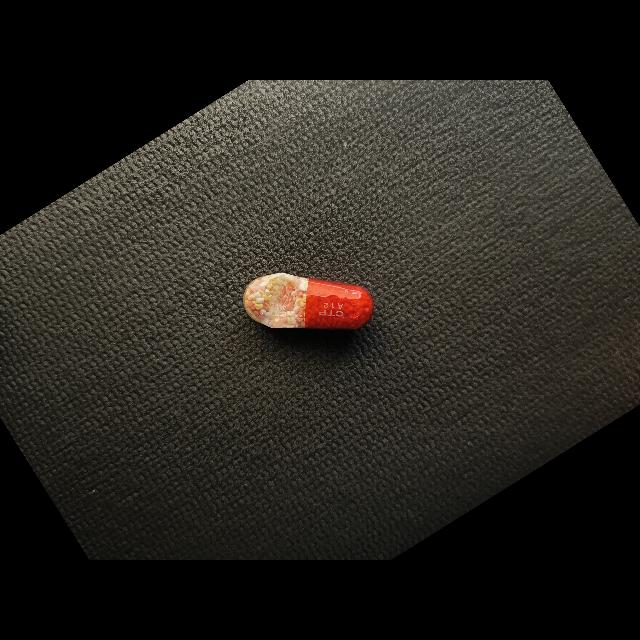Defective Capsule: (243, 272, 374, 329)
